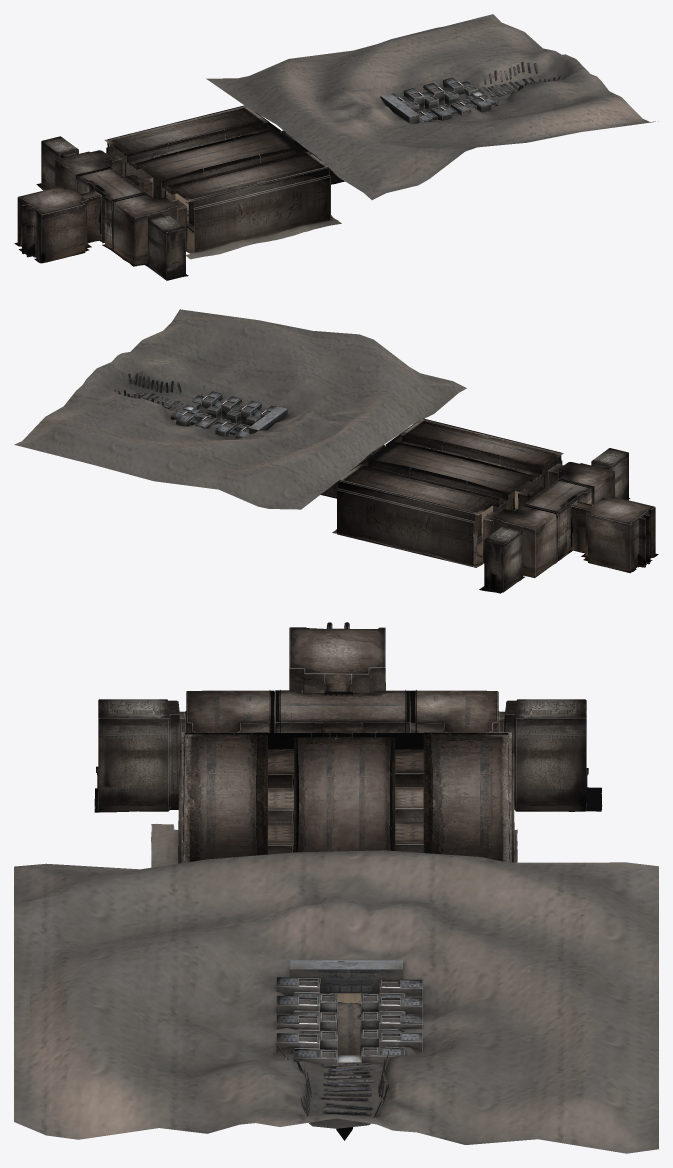
Rendered from kings-chamber.glb.
The picture shows the model from 3 angles, top to bottom: view 1: azimuth 30°, elevation 25°; view 2: azimuth 150°, elevation 25°; view 3: azimuth 270°, elevation 25°; orthographic projection. The views are drawn at different scales.
Visible parts, largest first — view 1: ground near_ground near_0, wall hall left_wall hall left_0, ceiling hall side_ceiling hall side_0, main room_main room_0, ceiling halll midle_ceiling halll midle_0, left room hallway_left room hallway_0, wall stair right_wall stair right_0, left room_left room_0, column right_column right_0, middle room hallway_middle room hallway_0, right room hallway_right room hallway_0, colum left_colum left_0 (+5 smaller); view 2: ground near_ground near_0, wall hall right_wall hall right_0, ceiling hall side_ceiling hall side_0, main room_main room_0, ceiling halll midle_ceiling halll midle_0, right room hallway_right room hallway_0, wall stair right_wall stair right_0, right room_right room_0, middle room hallway_middle room hallway_0, colum left_colum left_0, column right_column right_0, left room hallway_left room hallway_0 (+5 smaller); view 3: ground near_ground near_0, ceiling hall side_ceiling hall side_0, ceiling halll midle_ceiling halll midle_0, wall stair right_wall stair right_0, left room_left room_0, right room_right room_0, main room_main room_0, middle room hallway_middle room hallway_0, right room hallway_right room hallway_0, left room hallway_left room hallway_0, column right_column right_0, colum left_colum left_0 (+5 smaller).
Boxes of the visible parts, x1,y1,x2,y2 form: ground near_ground near_0: [206, 14, 658, 199]; wall hall left_wall hall left_0: [193, 140, 330, 252]; ceiling hall side_ceiling hall side_0: [104, 106, 327, 201]; main room_main room_0: [17, 186, 101, 263]; ceiling halll midle_ceiling halll midle_0: [134, 129, 301, 182]; left room hallway_left room hallway_0: [112, 193, 187, 266]; wall stair right_wall stair right_0: [391, 77, 496, 122]; left room_left room_0: [148, 213, 185, 280]; column right_column right_0: [126, 122, 275, 201]; middle room hallway_middle room hallway_0: [77, 167, 145, 248]; right room hallway_right room hallway_0: [55, 150, 122, 192]; colum left_colum left_0: [161, 147, 301, 232]; ground near_ground near_0: [14, 309, 466, 509]; wall hall right_wall hall right_0: [337, 454, 474, 567]; ceiling hall side_ceiling hall side_0: [339, 419, 563, 515]; main room_main room_0: [571, 496, 655, 573]; ceiling halll midle_ceiling halll midle_0: [368, 442, 534, 494]; right room hallway_right room hallway_0: [482, 505, 557, 577]; wall stair right_wall stair right_0: [170, 391, 276, 438]; right room_right room_0: [484, 525, 522, 592]; middle room hallway_middle room hallway_0: [524, 479, 592, 560]; colum left_colum left_0: [392, 435, 542, 514]; column right_column right_0: [368, 459, 508, 544]; left room hallway_left room hallway_0: [548, 462, 614, 504]; ground near_ground near_0: [14, 850, 658, 1153]; ceiling hall side_ceiling hall side_0: [181, 732, 511, 862]; ceiling halll midle_ceiling halll midle_0: [294, 737, 395, 852]; wall stair right_wall stair right_0: [276, 977, 422, 1064]; left room_left room_0: [98, 699, 185, 811]; right room_right room_0: [499, 699, 586, 811]; main room_main room_0: [289, 622, 385, 692]; middle room hallway_middle room hallway_0: [275, 690, 409, 732]; right room hallway_right room hallway_0: [410, 690, 499, 732]; left room hallway_left room hallway_0: [185, 690, 274, 732]; column right_column right_0: [389, 737, 432, 852]; colum left_colum left_0: [255, 737, 298, 854].
Size of the model in its own units: 99.63 by 18.17 by 51.83.
Materials: 49 (46 with a texture image).
